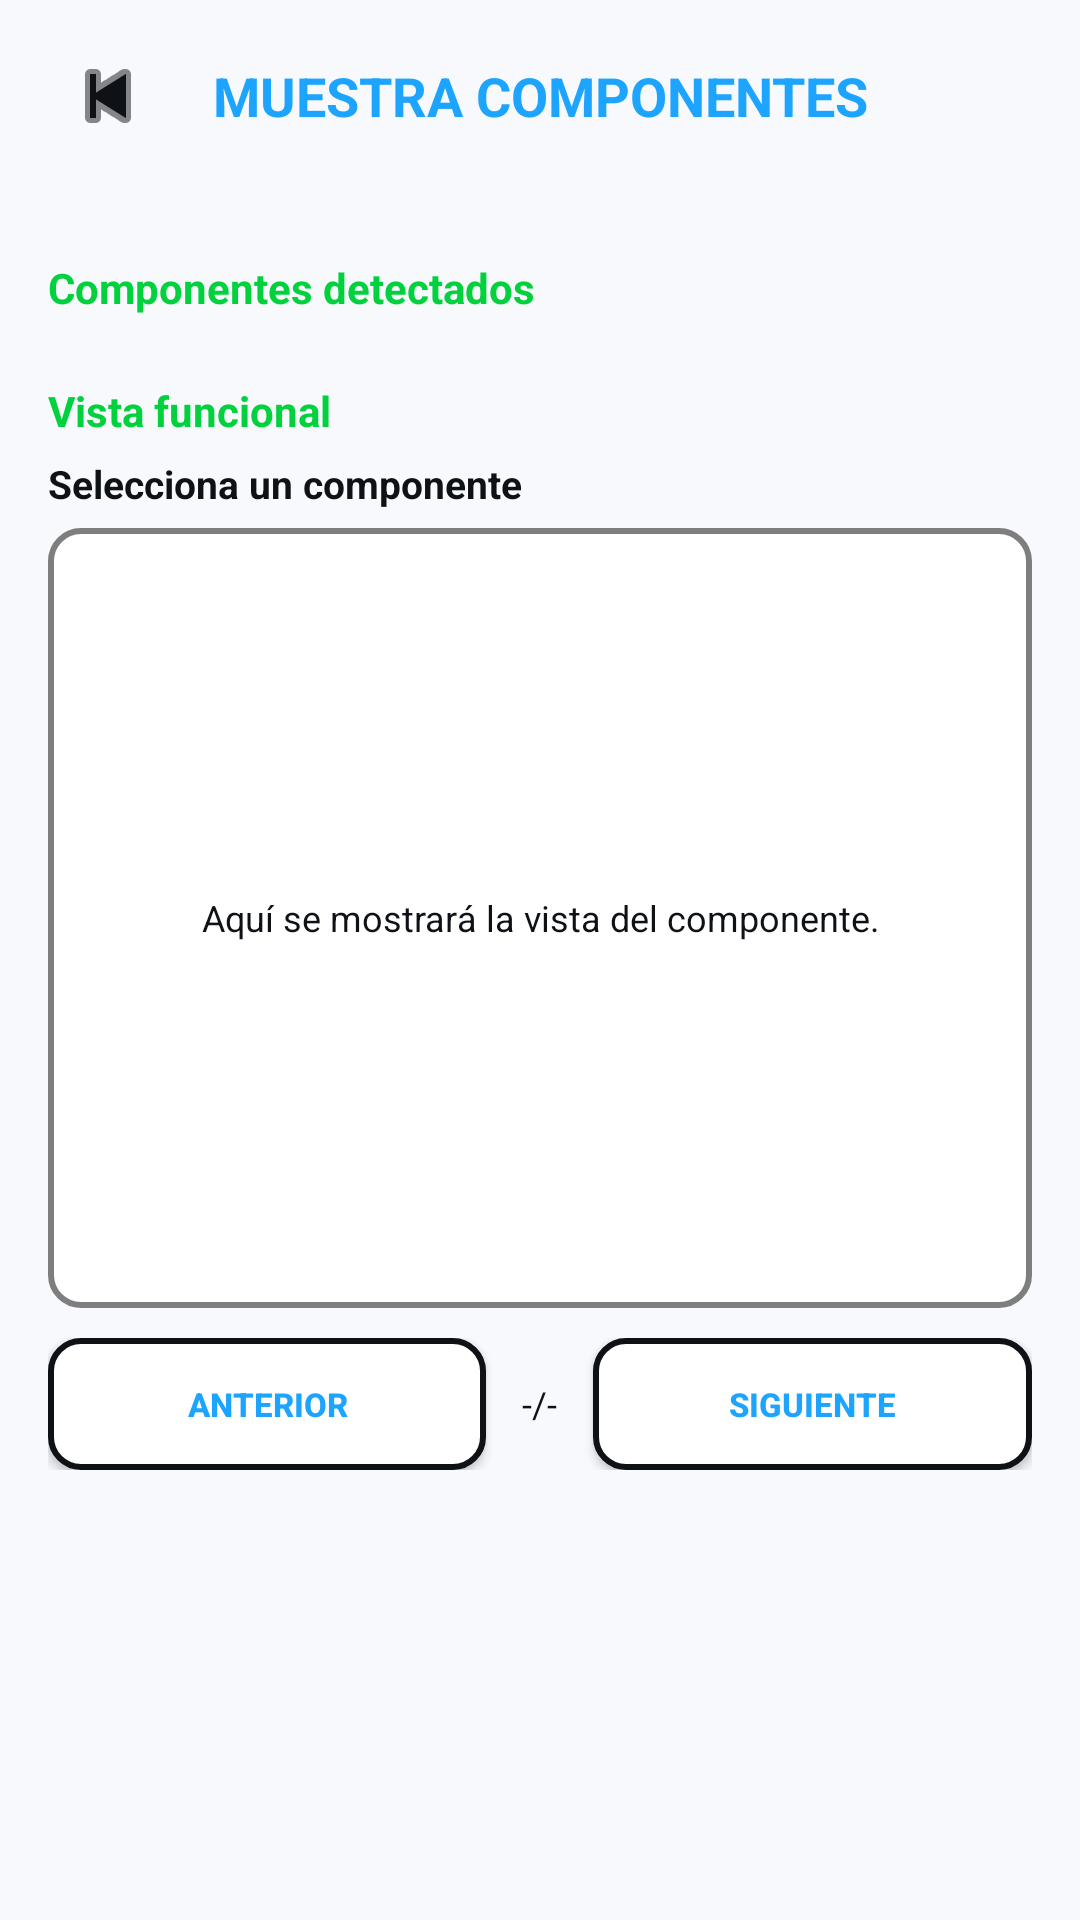

Where to tap for icons on this 1080*1920 app screen, as [x,y]:
Inicio: [108,96]
